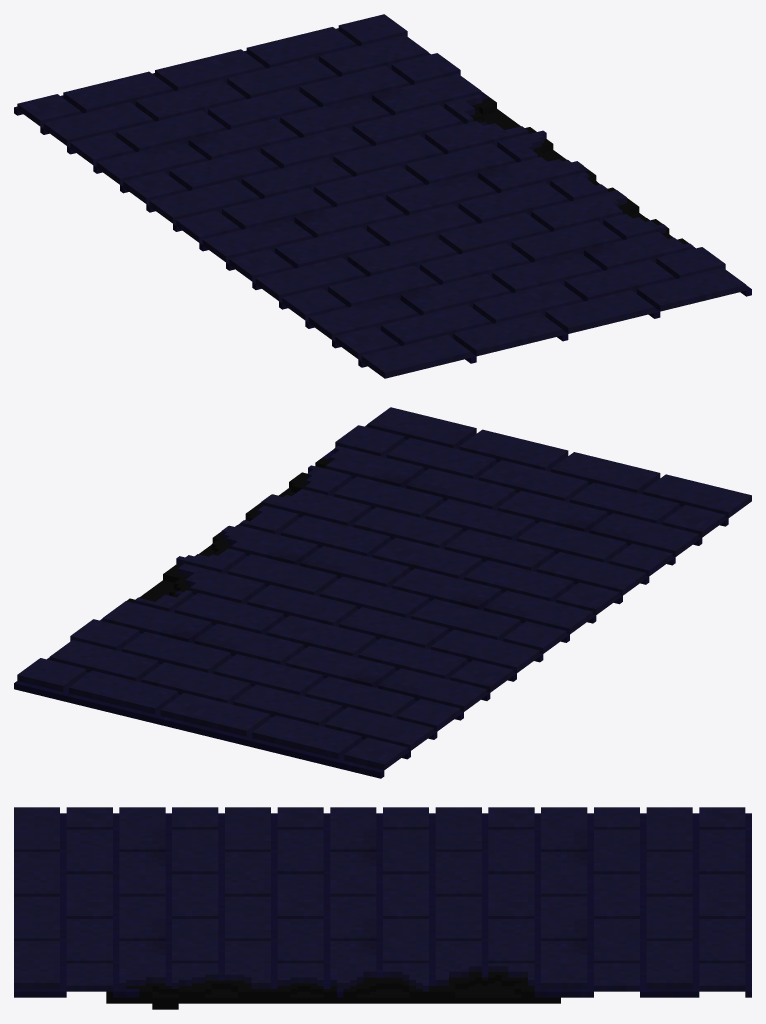
File: flooring_prophet-3.obj
3 renders of one model, top to bottom at view 1: azimuth 30°, elevation 25°; view 2: azimuth 150°, elevation 25°; view 3: azimuth 270°, elevation 25°, orthographic.
Size of the model in its own units: 6.4 by 0.4 by 11.2.
